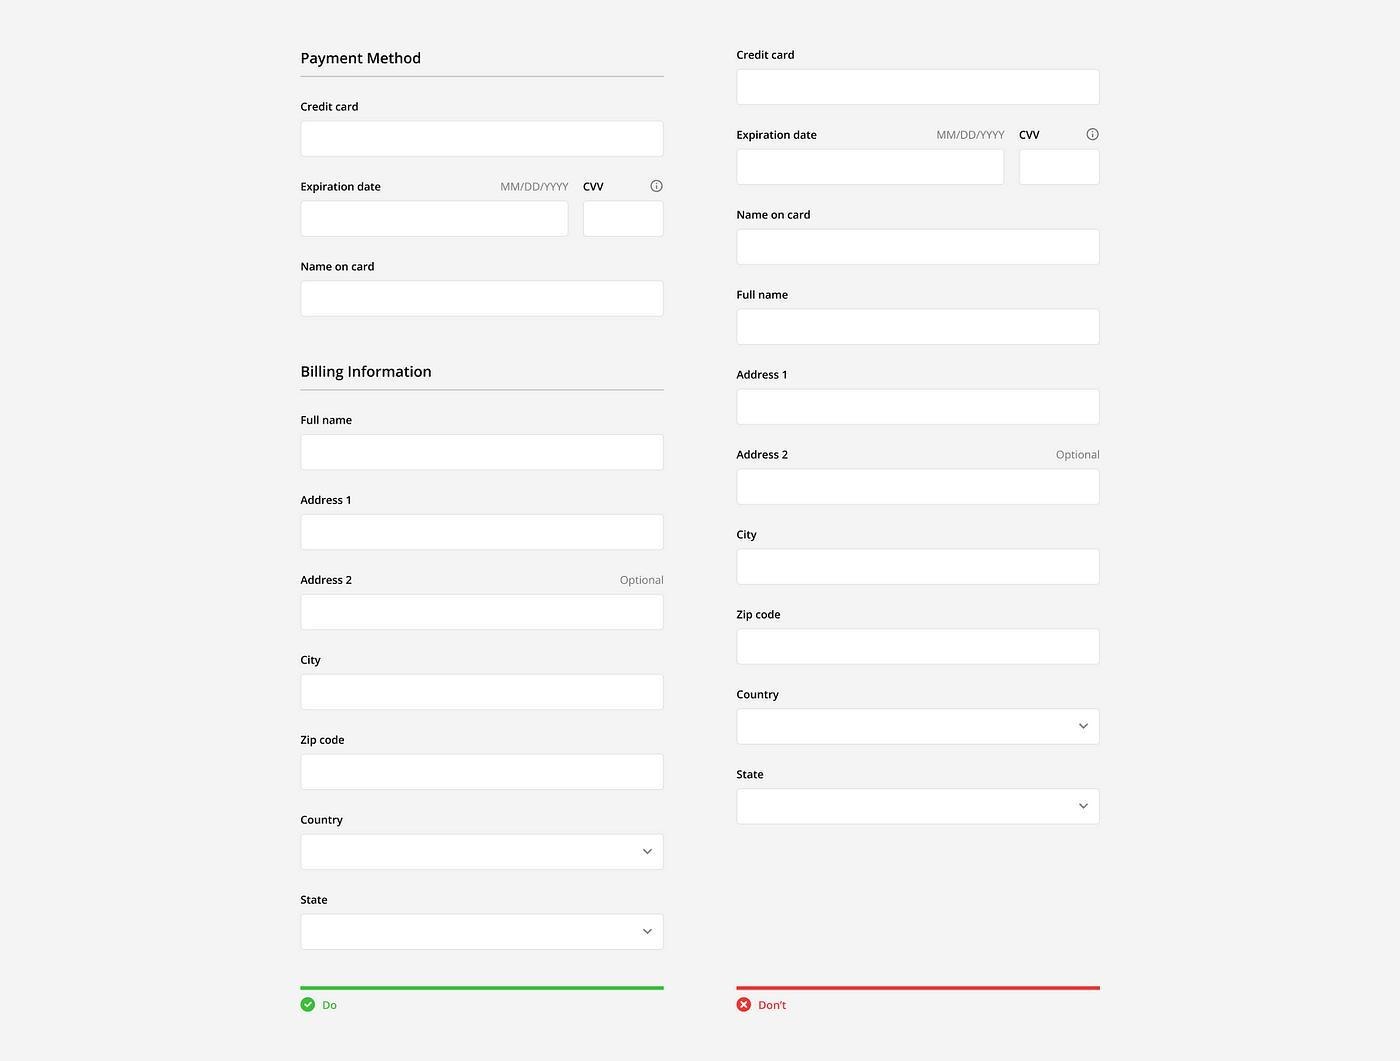dropdown: (301, 913, 665, 951), (302, 834, 665, 870), (739, 790, 1102, 826), (739, 710, 1101, 746)
icon: (644, 177, 668, 194), (1086, 128, 1101, 143)
input: (736, 230, 1101, 266), (738, 630, 1101, 666), (737, 551, 1100, 586), (739, 470, 1101, 506), (301, 435, 663, 470), (303, 281, 665, 317), (737, 391, 1101, 426), (737, 311, 1101, 345), (301, 124, 665, 158), (302, 756, 665, 790), (739, 71, 1100, 106), (302, 676, 663, 709), (303, 597, 664, 630), (302, 517, 663, 549), (738, 150, 1007, 186), (302, 204, 570, 239), (584, 204, 665, 239), (1020, 152, 1101, 184)
label: (298, 360, 438, 387), (299, 45, 426, 74), (299, 178, 383, 198), (733, 205, 817, 223), (295, 730, 362, 751), (730, 127, 821, 142), (731, 444, 799, 461), (735, 360, 791, 381), (732, 288, 795, 306), (299, 409, 361, 428), (733, 607, 789, 627), (295, 570, 358, 587), (294, 261, 377, 274), (736, 47, 799, 64), (735, 685, 791, 703), (296, 812, 348, 831), (298, 494, 356, 510), (299, 890, 336, 912), (298, 101, 367, 113), (293, 649, 329, 670), (732, 766, 769, 785), (733, 527, 771, 541), (1015, 126, 1048, 142), (581, 179, 612, 193)
